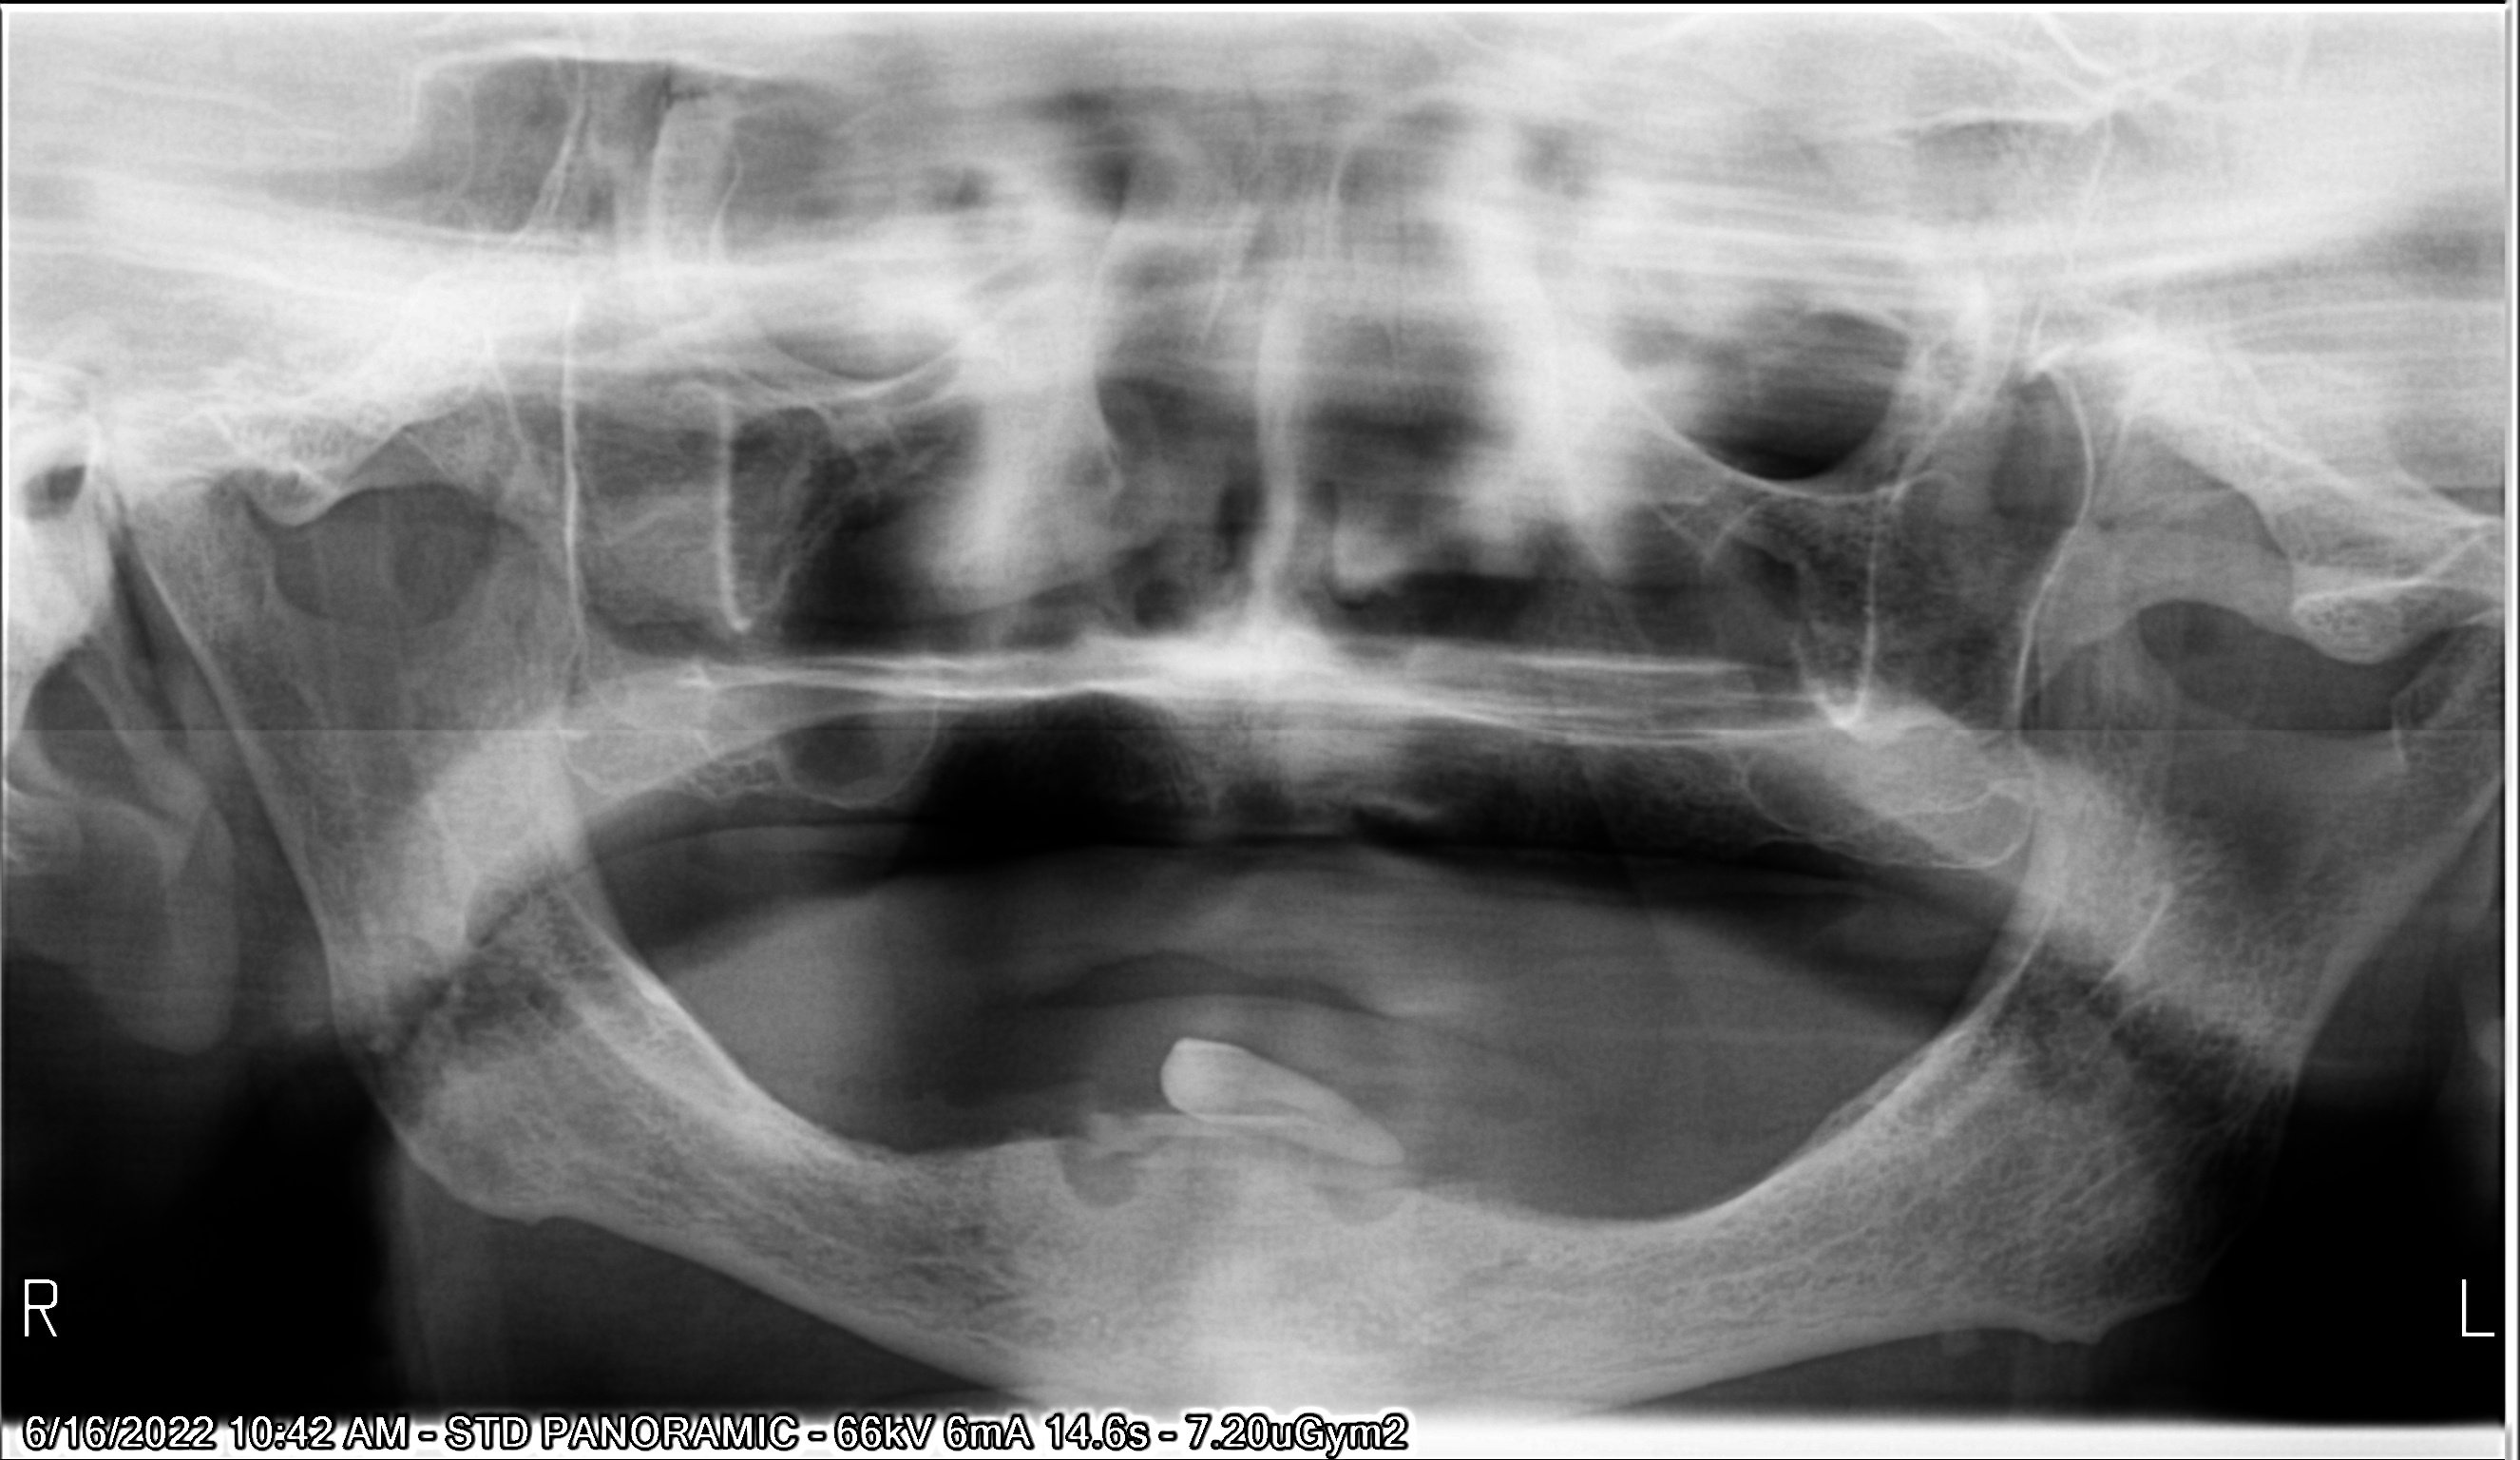ROT: (1138, 992, 1414, 1187)
